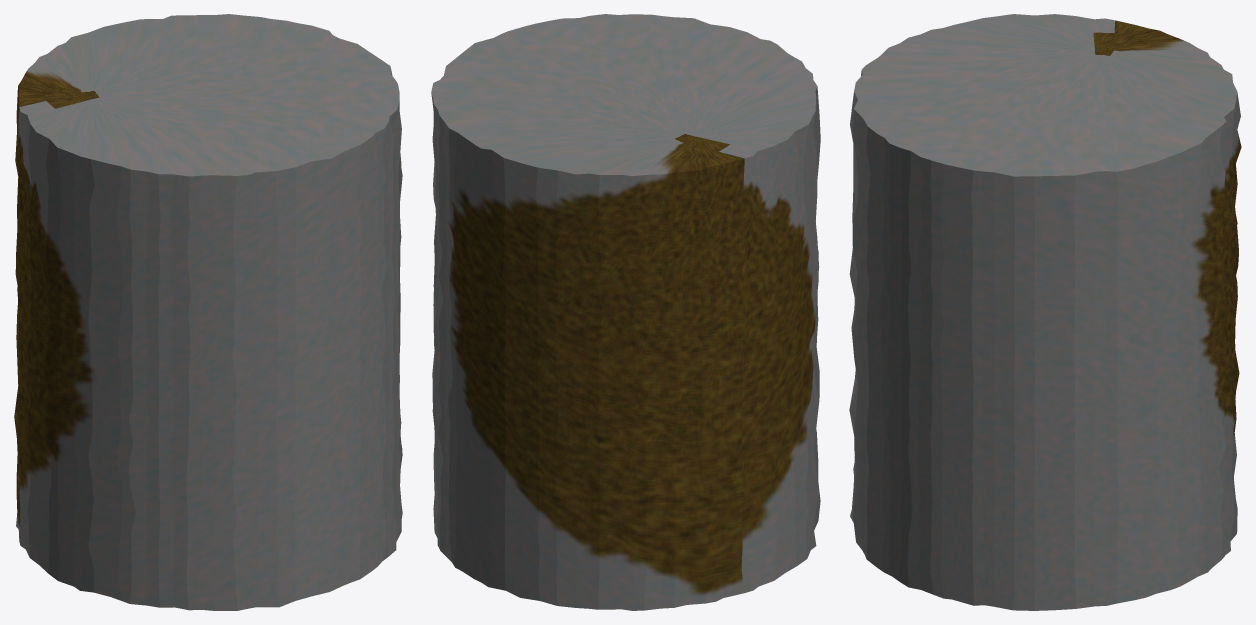
The model's file is barrel_0.dae.
3 views of the same model, side by side, from view 1: azimuth 30°, elevation 25°; view 2: azimuth 150°, elevation 25°; view 3: azimuth 270°, elevation 25° (orthographic).
Visible parts, largest first — view 1: Cylinder; view 2: Cylinder; view 3: Cylinder.
Boxes of the visible parts, left/top/right/bottom form: Cylinder: left=14, top=14, right=402, bottom=610; Cylinder: left=431, top=14, right=820, bottom=610; Cylinder: left=849, top=14, right=1241, bottom=610.
Size of the model in its own units: 0.8199 by 0.8195 by 1.
1 material, 1 textured.
